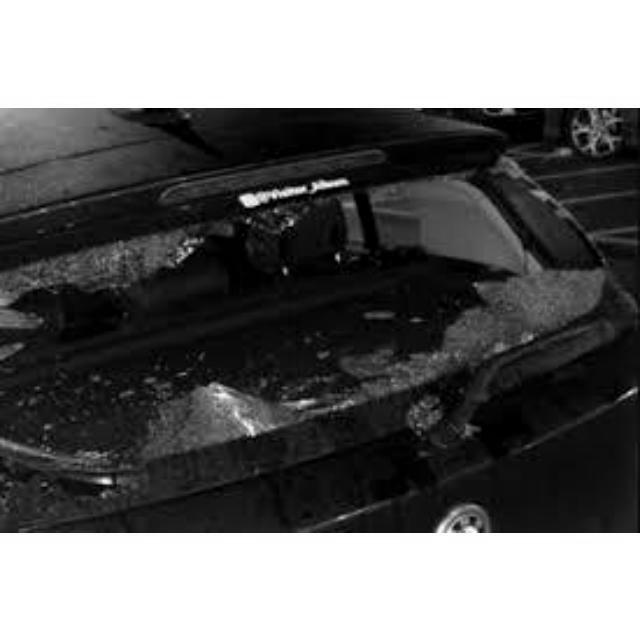Rear-windscreen-Damage: (1, 149, 636, 498)
